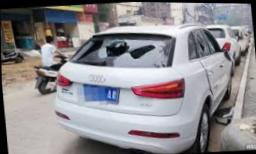Door: (197, 51, 232, 113), (192, 28, 221, 57)
Fender: (221, 48, 236, 75)
Windshield: (69, 33, 176, 67)
